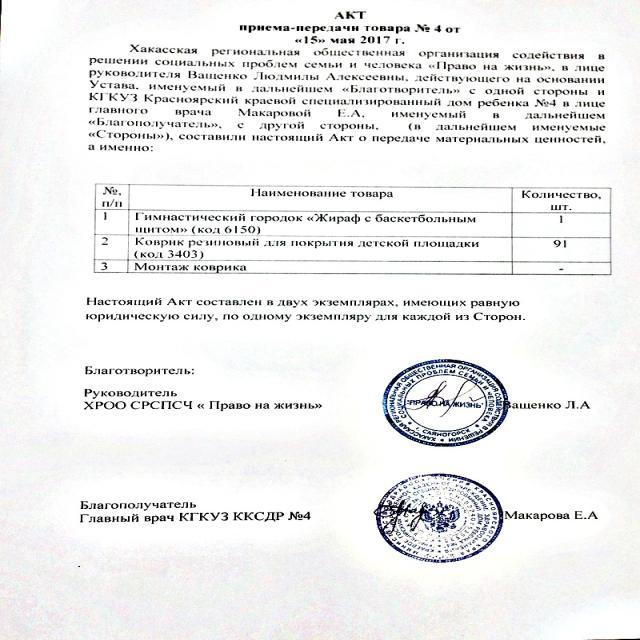stamps: (364, 466, 524, 563), (370, 355, 517, 447)
